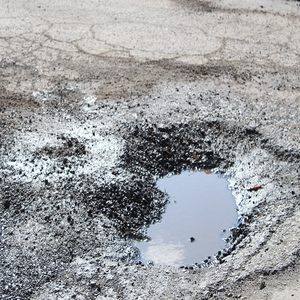pothole: (106, 118, 300, 274)
